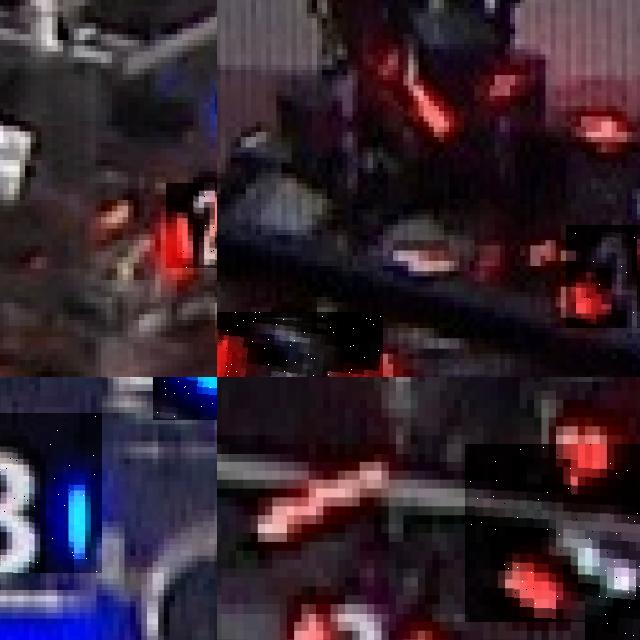B3: (0, 413, 102, 573)
R2: (166, 182, 217, 268)
R3: (465, 444, 640, 622), (236, 555, 454, 640), (217, 312, 383, 377), (565, 225, 640, 328)
